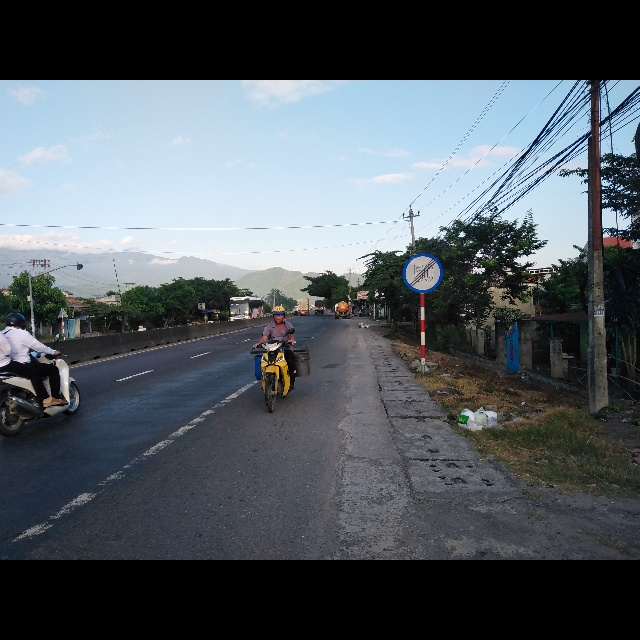Hết hạn chế tốc độ tối đa 50km/h: (403, 253, 445, 292)
